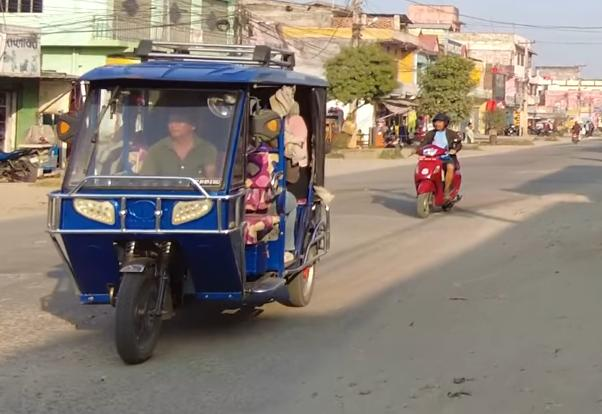e-rickshaw: (53, 37, 329, 372)
scooter: (413, 144, 462, 219)
